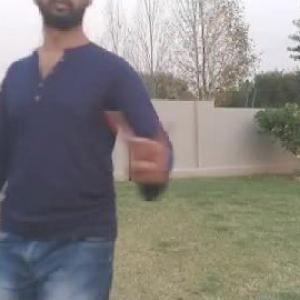takeoff-hand: (104, 108, 178, 195)
